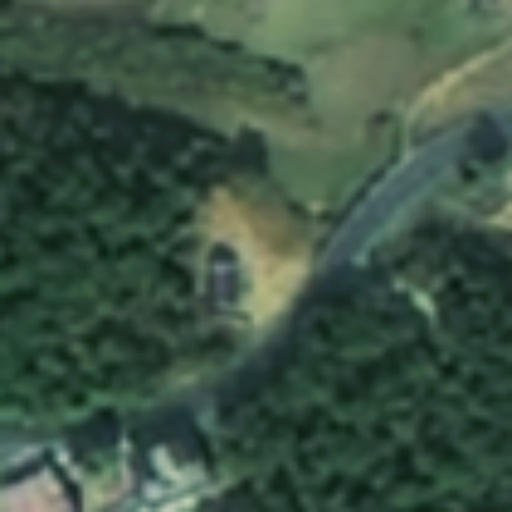landslide: (198, 184, 309, 324)
